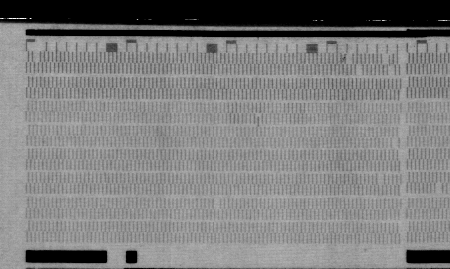Broken hole: (433, 181, 445, 195), (30, 51, 43, 63), (343, 53, 356, 65), (353, 63, 365, 76), (386, 63, 398, 76), (375, 172, 386, 186), (380, 53, 392, 65), (211, 196, 222, 209), (389, 136, 400, 148)
Oblique printing: (252, 113, 264, 127)
